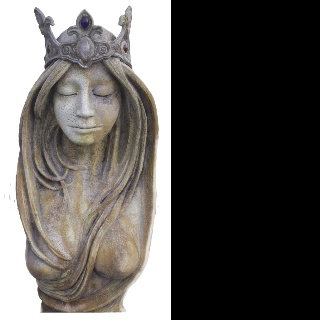without_mask: (51, 62, 121, 146)
